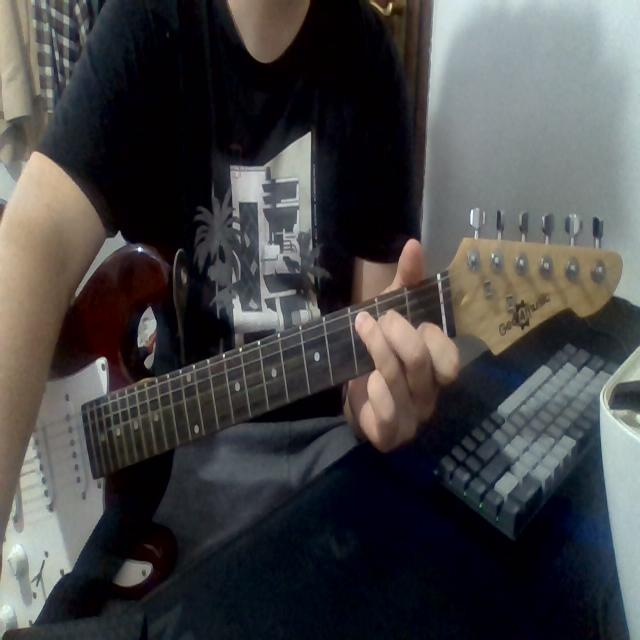C: (352, 284, 468, 413)
